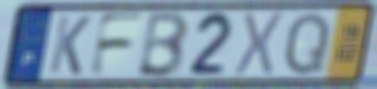2: (187, 9, 235, 79)
B: (134, 9, 191, 80)
F: (86, 12, 148, 79)
K: (46, 13, 93, 78)
Q: (282, 10, 333, 78)
X: (231, 9, 288, 79)
